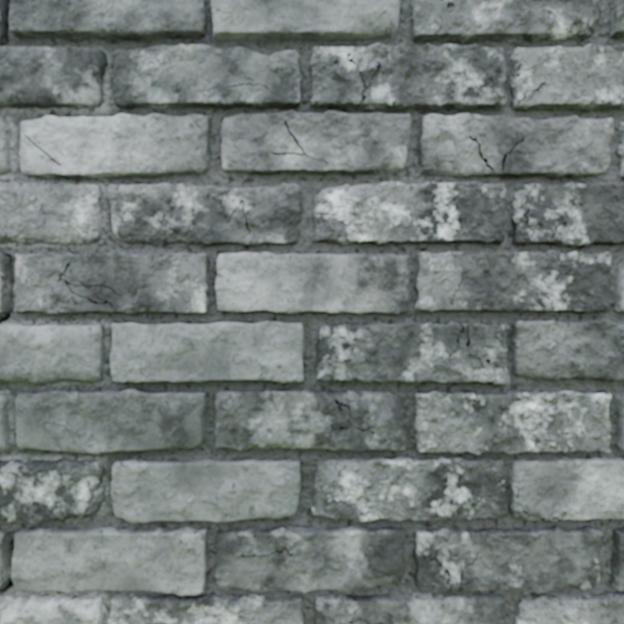brick: (11, 526, 404, 623), (315, 526, 623, 623), (310, 44, 505, 110), (313, 457, 507, 521), (317, 321, 509, 385), (419, 114, 612, 177), (415, 391, 610, 453), (15, 390, 206, 453), (19, 114, 209, 177), (113, 45, 300, 109), (415, 251, 610, 312), (222, 111, 410, 174), (313, 182, 504, 244), (107, 183, 300, 244), (111, 460, 300, 522), (14, 253, 207, 313), (215, 253, 408, 313), (110, 322, 304, 381), (215, 390, 405, 450), (10, 0, 204, 41), (412, 0, 600, 42), (212, 0, 399, 40), (510, 44, 623, 109), (508, 456, 623, 519), (509, 319, 623, 380), (512, 183, 623, 245), (611, 527, 623, 589), (0, 254, 10, 312), (608, 0, 623, 37), (0, 530, 9, 587), (615, 393, 623, 448), (615, 258, 623, 311), (617, 123, 623, 176), (0, 0, 5, 43), (355, 621, 364, 623)
broken_brick: (0, 458, 105, 523), (0, 45, 108, 108), (0, 182, 103, 245), (0, 323, 104, 384), (0, 593, 105, 623), (0, 120, 12, 175), (0, 394, 10, 451)
crack: (428, 548, 479, 592), (515, 485, 567, 522), (447, 324, 485, 369), (0, 253, 14, 325), (0, 534, 15, 593), (522, 202, 535, 243), (1, 0, 11, 46), (344, 608, 370, 623), (440, 0, 455, 14), (400, 269, 408, 277), (616, 327, 623, 332)
